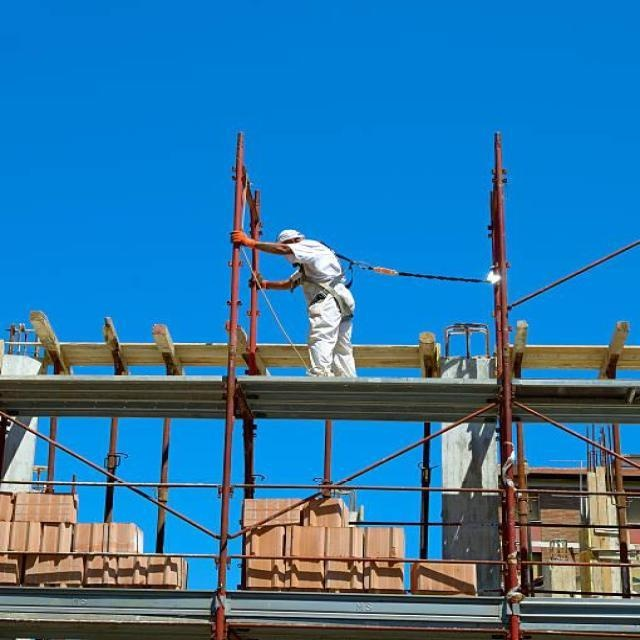Arnes_seguridad: (299, 239, 357, 323)
